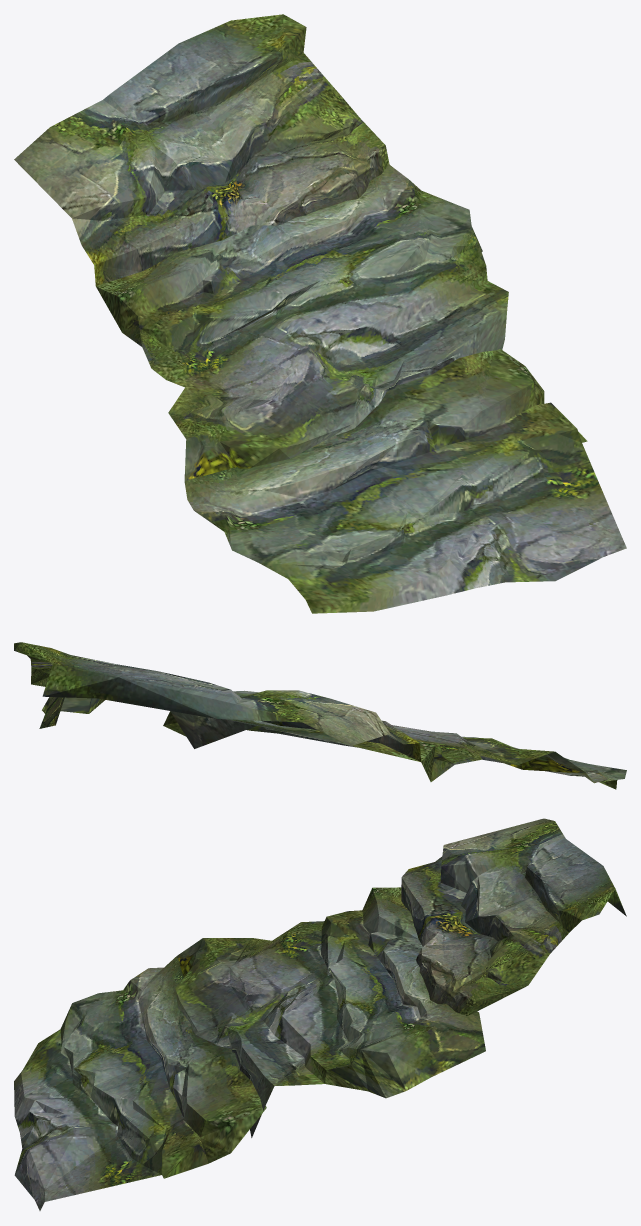
File: Hangzhou_wj_022.FBX
The picture shows the model from 3 angles, top to bottom: view 1: azimuth 30°, elevation 25°; view 2: azimuth 150°, elevation 25°; view 3: azimuth 270°, elevation 25°; orthographic projection. The views are drawn at different scales.
Visible parts, largest first — view 1: DrawCall_803; view 2: DrawCall_803; view 3: DrawCall_803.
Part boxes in pixels (x1,y1,x2,y2): DrawCall_803: [14, 14, 626, 613]; DrawCall_803: [14, 642, 626, 789]; DrawCall_803: [14, 818, 626, 1210].
Size of the model in its own units: 313 by 229 by 435.
1 material, 1 textured.
